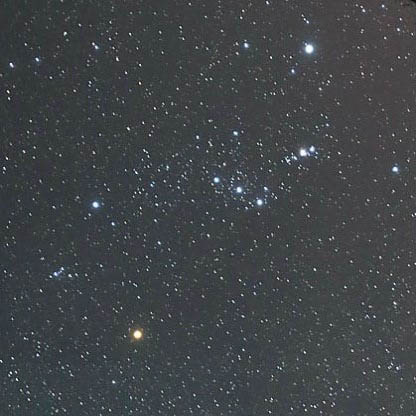Orion: (295, 36, 320, 64), (122, 326, 152, 347), (387, 158, 406, 186), (247, 192, 269, 213), (203, 168, 226, 188), (85, 192, 105, 211), (224, 184, 245, 198)
